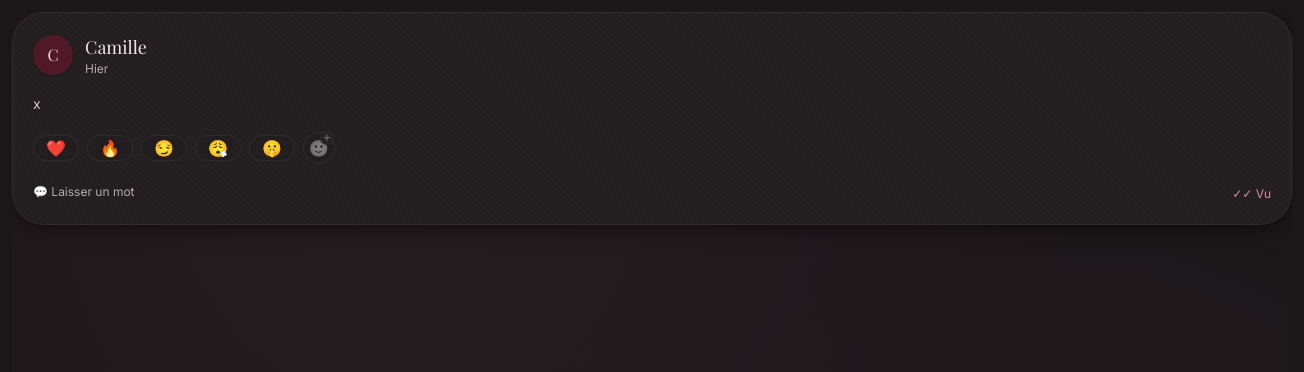
BlogPost › au clic sur « Vu », la bulle liste qui a vu (et quand)
Check: the text "Robin" is not shown
Click the button with aria-label "qui a vu". click: click(1252, 194)
box: [1232,186,1271,202]
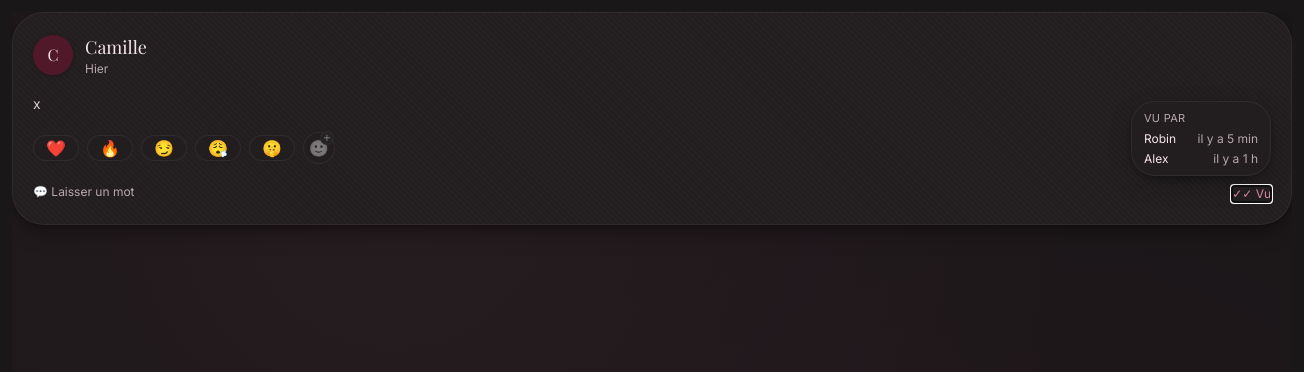
Check: the text "Robin" is shown, box [1144,131,1176,147]
Check: the text "Alex" is shown, box [1144,151,1168,167]
Check: the text "il y a 5 min" is shown, box [1198,131,1258,147]
